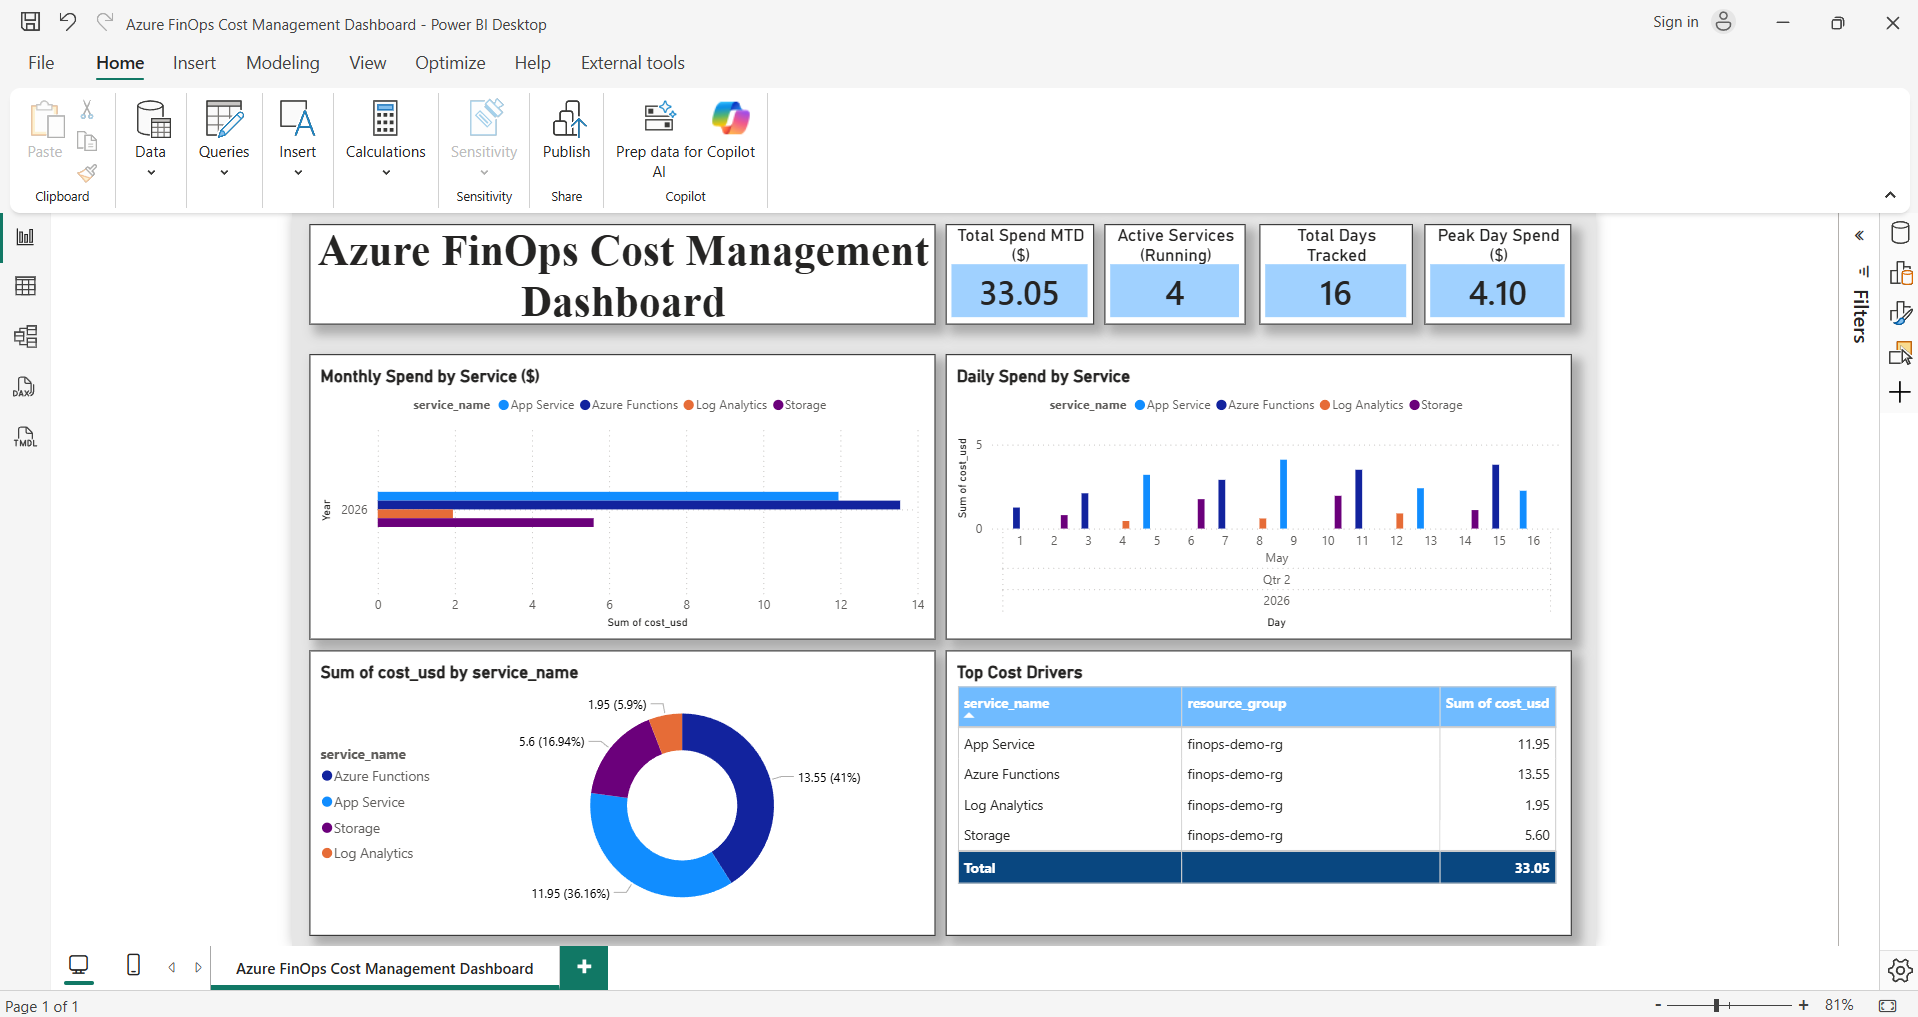

The page's visual inventory and layout, read from the dashboard file:
{"tool":"powerbi","page":{"name":"Azure FinOps Cost Management Dashboard","canvas":[1280,720],"ordinal":0},"visuals":[{"type":"clusteredBarChart","title":"Monthly Spend by Service ($)","fields":{"Category":["cost-exports.date.Variation.Date Hierarchy.Year","cost-exports.date.Variation.Date Hierarchy.Quarter","cost-exports.date.Variation.Date Hierarchy.Month","cost-exports.date.Variation.Date Hierarchy.Day"],"Y":["Sum(cost-exports.cost_usd)"],"Series":["cost-exports.service_name"]},"box":[17.2,138.5,614.6,279.9],"z":0},{"type":"donutChart","fields":{"Y":["Sum(cost-exports.cost_usd)"],"Category":["cost-exports.service_name"]},"box":[17.2,429.7,614.5,279.9],"z":1000},{"type":"clusteredColumnChart","title":"Daily Spend by Service","fields":{"Y":["Sum(cost-exports.cost_usd)"],"Series":["cost-exports.service_name"],"Category":["cost-exports.date.Variation.Date Hierarchy.Year","cost-exports.date.Variation.Date Hierarchy.Quarter","cost-exports.date.Variation.Date Hierarchy.Month","cost-exports.date.Variation.Date Hierarchy.Day"]},"box":[641.9,138.5,614.6,279.9],"z":2000},{"type":"tableEx","title":"Top Cost Drivers","fields":{"Values":["cost-exports.service_name","cost-exports.resource_group","Sum(cost-exports.cost_usd)"]},"box":[641.9,429.9,614.6,279.9],"z":3000},{"type":"textbox","title":"Azure FinOps Cost Management Dashboard","box":[17.2,11.5,614.6,98.1],"z":3001},{"type":"cardVisual","title":"Total Spend MTD ($)","fields":{"Data":["Sum(cost-exports.cost_usd)"]},"box":[641.9,11.5,145.7,98.1],"z":3002},{"type":"cardVisual","title":"Active Services (Running)","fields":{"Data":["Count(cost-exports.service_name)"]},"box":[797.7,11.5,138.5,98.1],"z":3003},{"type":"cardVisual","title":"Total Days Tracked","fields":{"Data":["CountNonNull(cost-exports.date)"]},"box":[949.2,11.5,150,98.1],"z":3004},{"type":"cardVisual","title":"Peak Day Spend ($)","fields":{"Data":["Max(cost-exports.cost_usd)"]},"box":[1112.3,11.5,144.3,98.1],"z":3005}]}

Visuals, with their boxes on the page's 1280x720 design canvas (x1, y1, x2, y2). These are canvas units, not pixel positions in the 1918x1017 screenshot, which may show the page scaled, cropped or inside an application window:
"Monthly Spend by Service ($)" clusteredBarChart: <region>17, 138, 632, 418</region>
donutChart - Sum(cost-exports.cost_usd) x cost-exports.service_name: <region>17, 430, 632, 710</region>
"Daily Spend by Service" clusteredColumnChart: <region>642, 138, 1256, 418</region>
"Top Cost Drivers" tableEx: <region>642, 430, 1256, 710</region>
"Azure FinOps Cost Management Dashboard" textbox: <region>17, 12, 632, 110</region>
"Total Spend MTD ($)" cardVisual: <region>642, 12, 788, 110</region>
"Active Services (Running)" cardVisual: <region>798, 12, 936, 110</region>
"Total Days Tracked" cardVisual: <region>949, 12, 1099, 110</region>
"Peak Day Spend ($)" cardVisual: <region>1112, 12, 1257, 110</region>
